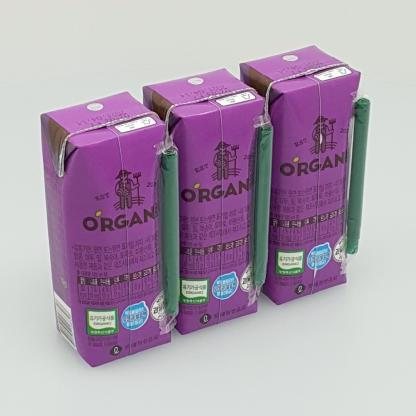---------------: (40, 91, 179, 368), (142, 68, 273, 335), (239, 45, 371, 305)
